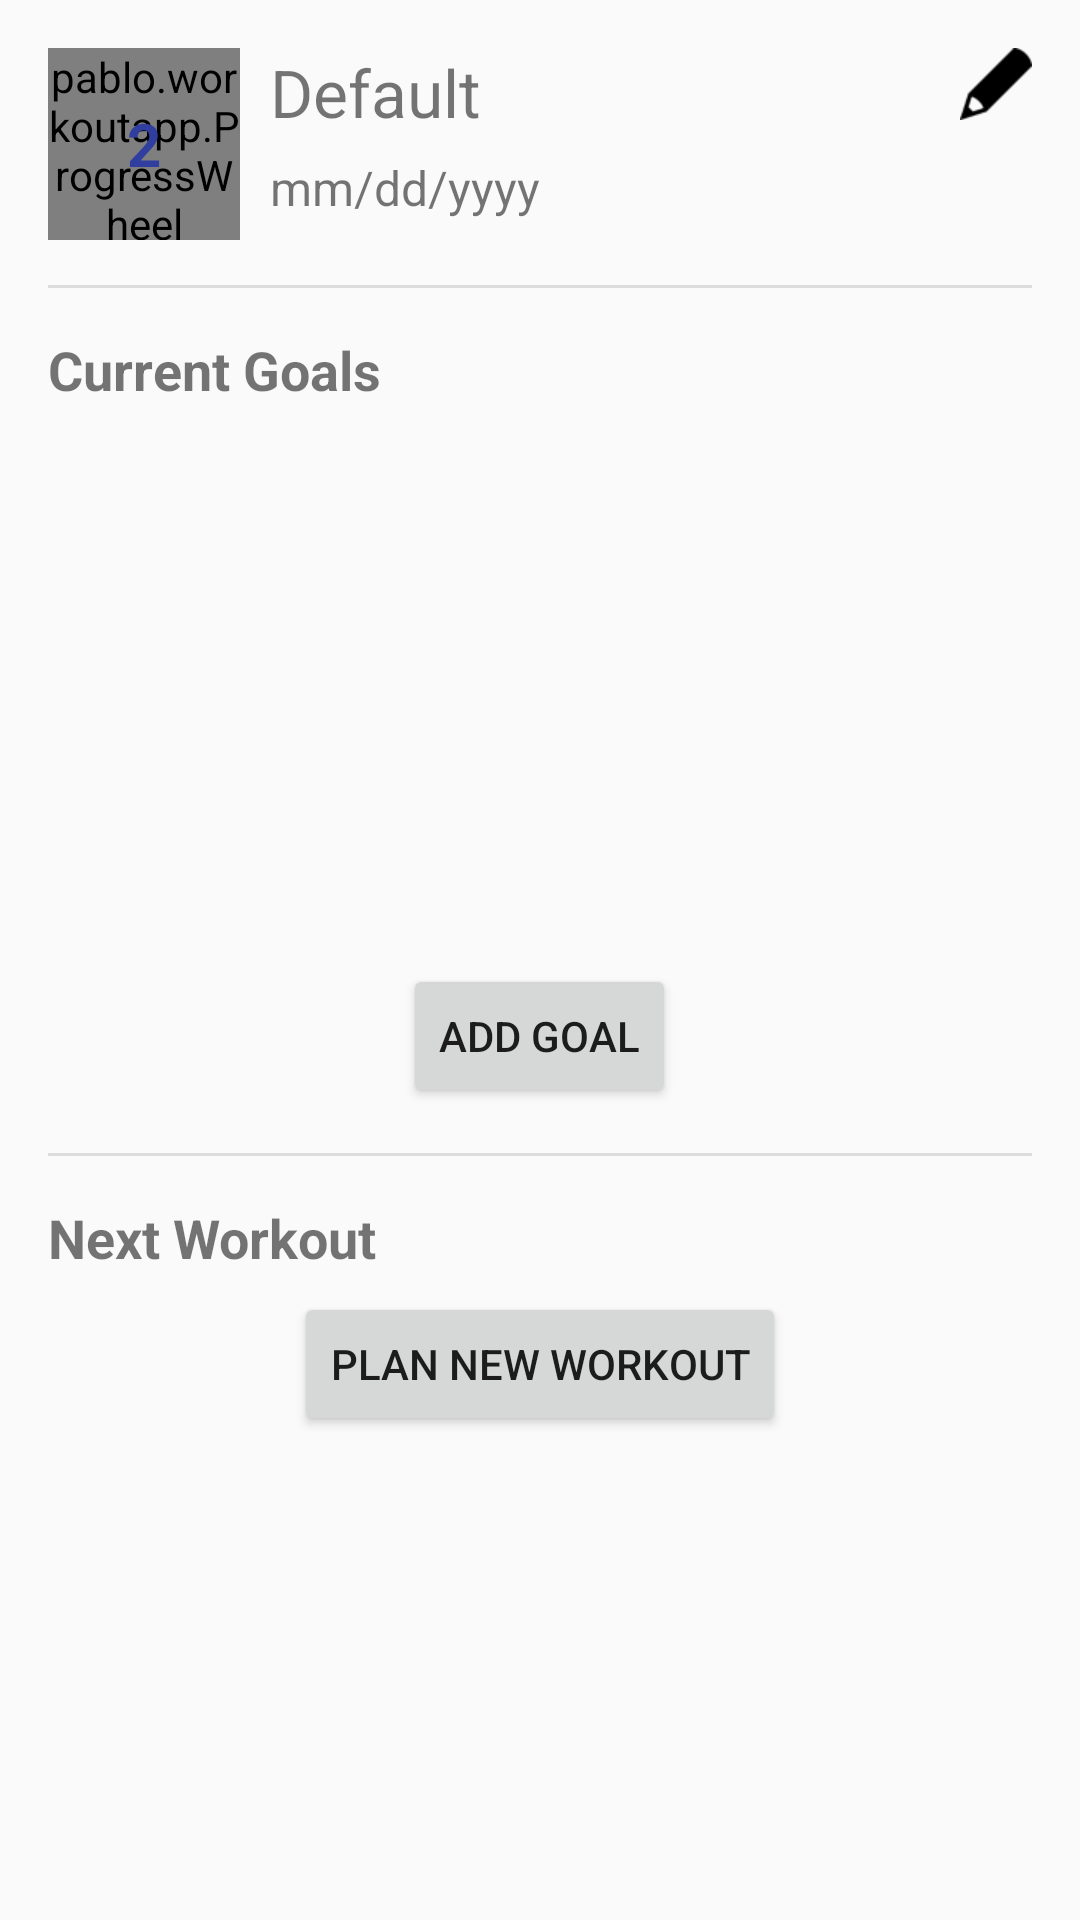

Screen size 1080px x 1920px. Icon name, then its center in pixels as (x=x, y=y):
edit: (x=996, y=84)
